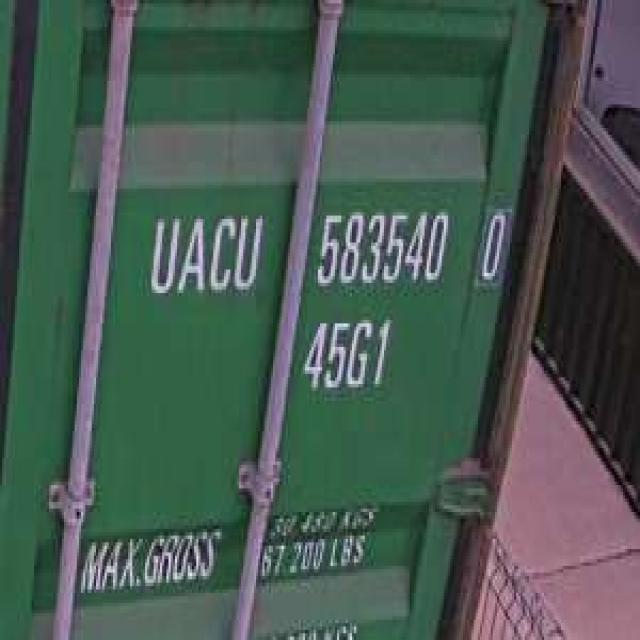dv: (476, 198, 510, 290)
owner: (143, 206, 264, 306)
serial: (312, 199, 450, 296)
size: (296, 306, 392, 401)
